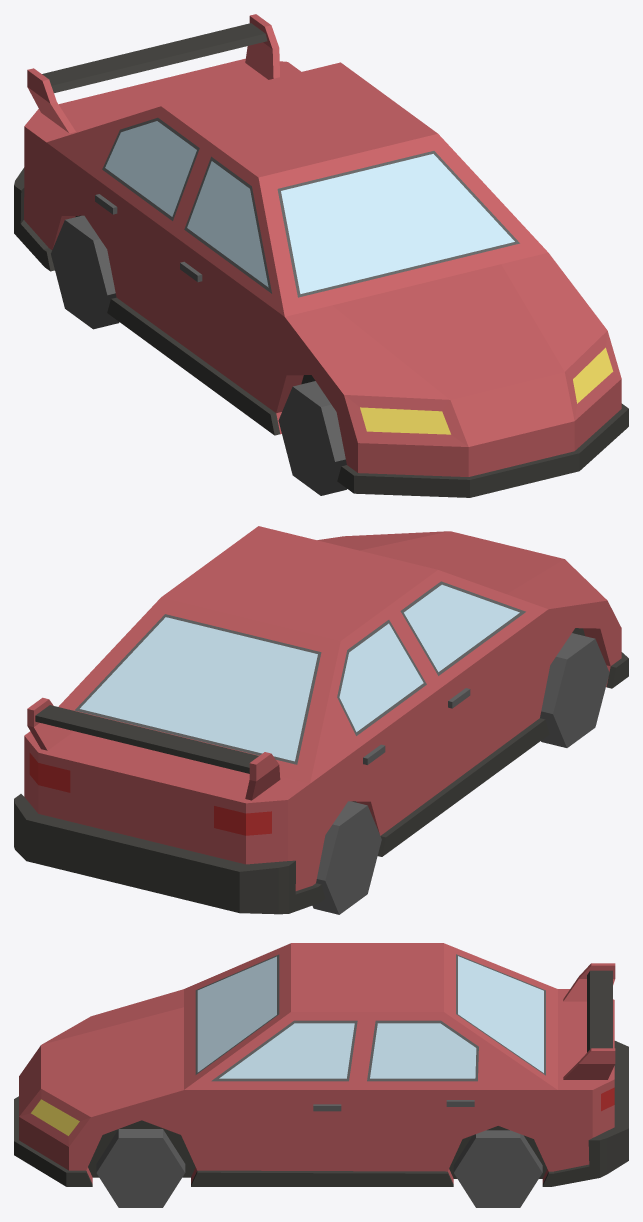
Rendered from easy2.glb.
3 views of the same model, one above another, from view 1: azimuth 30°, elevation 25°; view 2: azimuth 150°, elevation 25°; view 3: azimuth 270°, elevation 25° (orthographic). The views are drawn at different scales.
Parts seen in each view (by area): view 1: Car_1_3; view 2: Car_1_3; view 3: Car_1_3.
Part boxes in pixels (bbox=[...]): Car_1_3: bbox=[14, 14, 628, 497]; Car_1_3: bbox=[14, 526, 628, 914]; Car_1_3: bbox=[14, 943, 628, 1207].
Size of the model in its own units: 2.98 by 2.35 by 7.36.
Materials: 1 (1 with a texture image).
